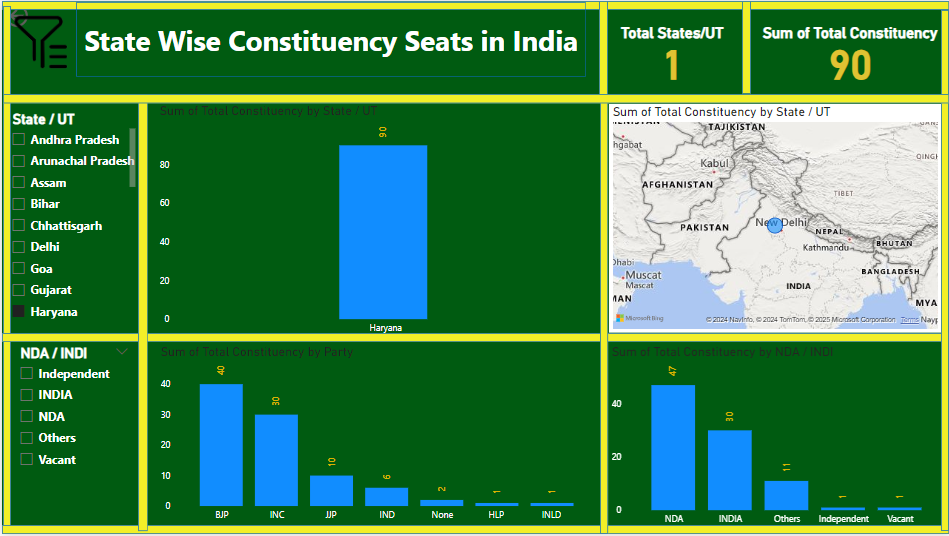

This screenshot's page, from the dashboard's own definition file:
{"tool":"powerbi","page":{"name":"Project","canvas":[1280,720],"ordinal":0},"visuals":[{"type":"card","title":"Total States/UT","fields":{"Values":["Count(Data.State / UT)"]},"box":[789.3,30.7,233.3,94.7],"z":0},{"type":"card","title":"Sum of Total Constituency","fields":{"Values":["Sum(Data.Total Constituency)"]},"box":[1012,30.7,268,94.7],"z":1000},{"type":"columnChart","fields":{"Category":["Data.State / UT"],"Y":["Sum(Data.Total Constituency)"]},"box":[208.2,137.8,597.8,322.1],"z":2000},{"type":"columnChart","fields":{"Y":["Sum(Data.Total Constituency)"],"Category":["Data.Party"]},"box":[209.6,464.2,599.2,249],"z":3000},{"type":"map","fields":{"Category":["Data.State / UT"],"Size":["Sum(Data.Total Constituency)"]},"box":[820.3,139.2,448.6,309.5],"z":4000},{"type":"columnChart","fields":{"Y":["Sum(Data.Total Constituency)"],"Category":["Data.NDA / INDI"]},"box":[818.6,464.2,461.4,254.6],"z":5000},{"type":"slicer","fields":{"Values":["Data.State / UT"]},"box":[1.4,143.5,184.3,301],"z":6000},{"type":"slicer","fields":{"Values":["Data.NDA / INDI"]},"box":[12,460,170.7,196],"z":7000},{"type":"actionButton","box":[0,0,100,40],"z":8000},{"type":"shape","box":[0,0,1280,12],"z":9000},{"type":"shape","box":[100,1.3,689.3,101.3],"z":10000},{"type":"shape","box":[1.3,6.7,10.7,709.3],"z":11000},{"type":"shape","box":[0,707.7,1280,12.2],"z":12000},{"type":"shape","box":[0,448.1,1280,12.2],"z":13000},{"type":"shape","box":[184,128,13.3,588],"z":14000},{"type":"shape","box":[1269.3,12,10.7,704],"z":15000},{"type":"shape","box":[808,127,11,593],"z":16000},{"type":"image","box":[6.7,6.7,90.7,96],"z":17000},{"type":"shape","box":[1000,0,12,125.3],"z":18000},{"type":"shape","box":[806.7,0,12,130.7],"z":19000},{"type":"shape","box":[1.4,125.2,1278.6,12.7],"z":20000}]}

Visuals, with their boxes in screenshot pixels (x1, y1, x2, y2), scaled from the page's 1280x720 canvas onto the 949x536 screenshot:
"Total States/UT" card: crop(585, 23, 758, 93)
"Sum of Total Constituency" card: crop(750, 23, 948, 93)
columnChart - Data.State / UT x Sum(Data.Total Constituency): crop(154, 103, 598, 342)
columnChart - Sum(Data.Total Constituency) x Data.Party: crop(155, 346, 600, 531)
map - Data.State / UT x Sum(Data.Total Constituency): crop(608, 104, 941, 334)
columnChart - Sum(Data.Total Constituency) x Data.NDA / INDI: crop(607, 346, 948, 535)
slicer - Data.State / UT: crop(1, 107, 138, 331)
slicer - Data.NDA / INDI: crop(9, 342, 135, 488)
actionButton: crop(0, 0, 74, 30)
shape: crop(0, 0, 948, 9)
shape: crop(74, 1, 585, 76)
shape: crop(1, 5, 9, 533)
shape: crop(0, 527, 948, 535)
shape: crop(0, 334, 948, 343)
shape: crop(136, 95, 146, 533)
shape: crop(941, 9, 948, 533)
shape: crop(599, 95, 607, 535)
image: crop(5, 5, 72, 76)
shape: crop(741, 0, 750, 93)
shape: crop(598, 0, 607, 97)
shape: crop(1, 93, 948, 103)
